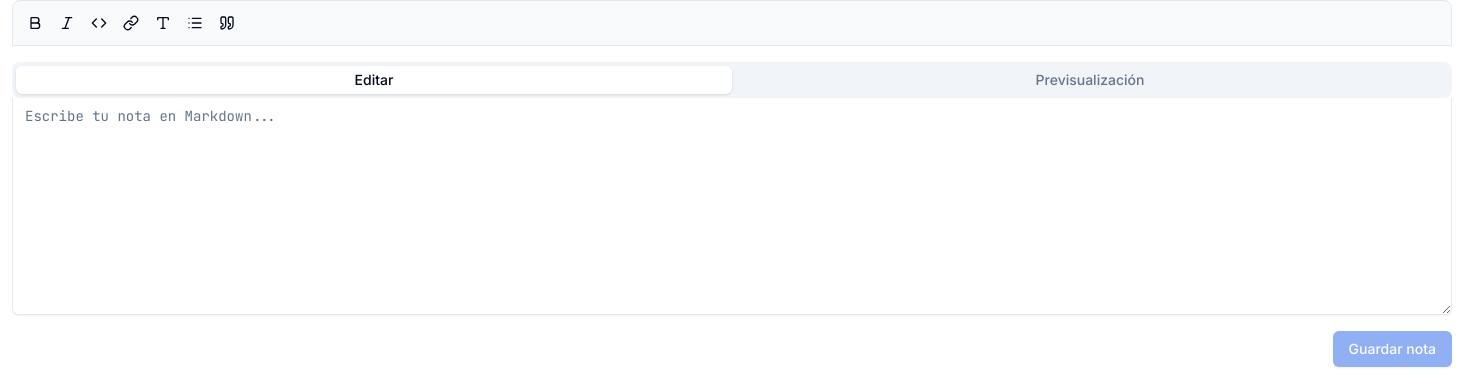
NoteEditor › shows preview content when typing in editor (debounced)
The image size is (1464, 385).
Step 1. Type "# Hello World" into the text box with placeholder "Escribe tu nota en Markdown..." → (732, 206), box top-left (12, 98), bottom-right (1452, 315)
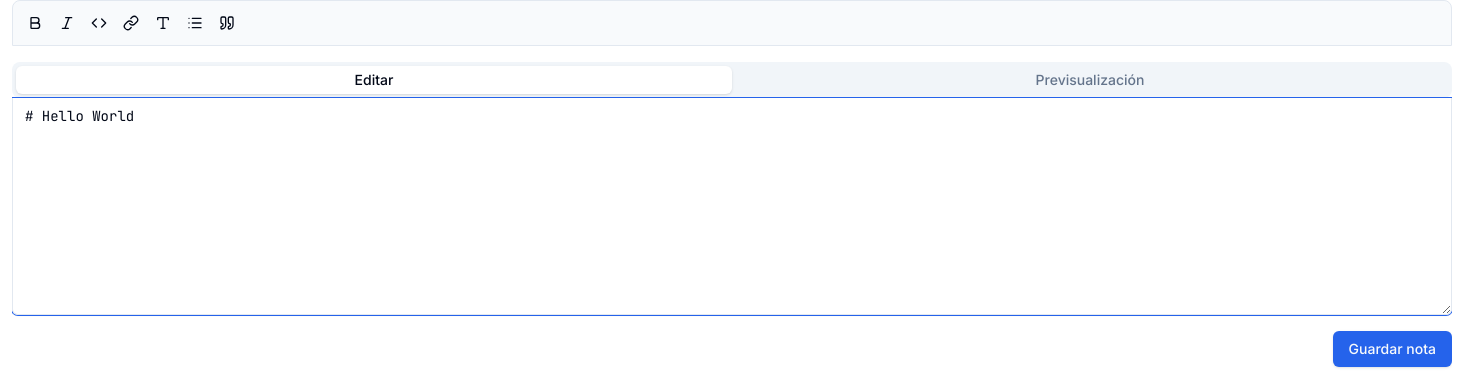
Note: Wait for debounce (300ms) and switch to preview tab
Step 2. Click the tab "Previsualización" → (1090, 80), box top-left (732, 66), bottom-right (1448, 94)
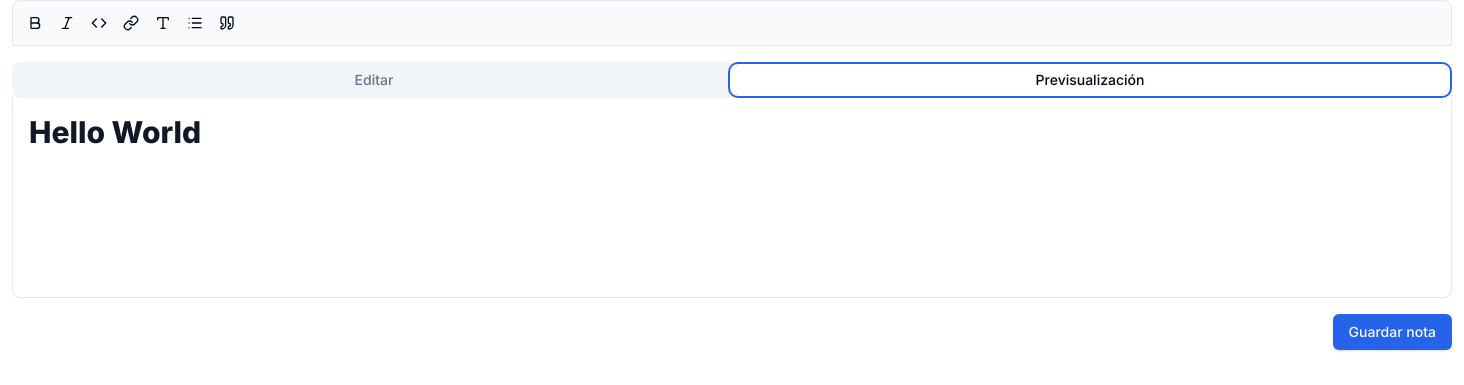
Result: the panel named "previsualización" reads "Hello World" at top-left (29, 114), bottom-right (201, 150)
